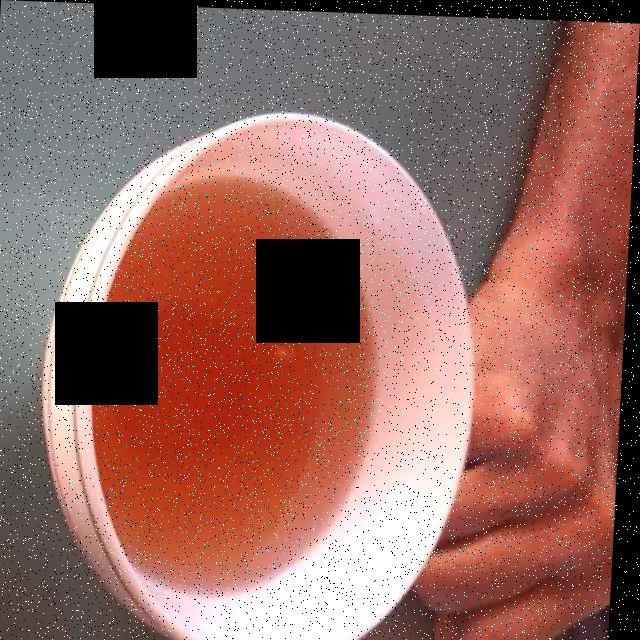tea: (101, 167, 378, 584)
